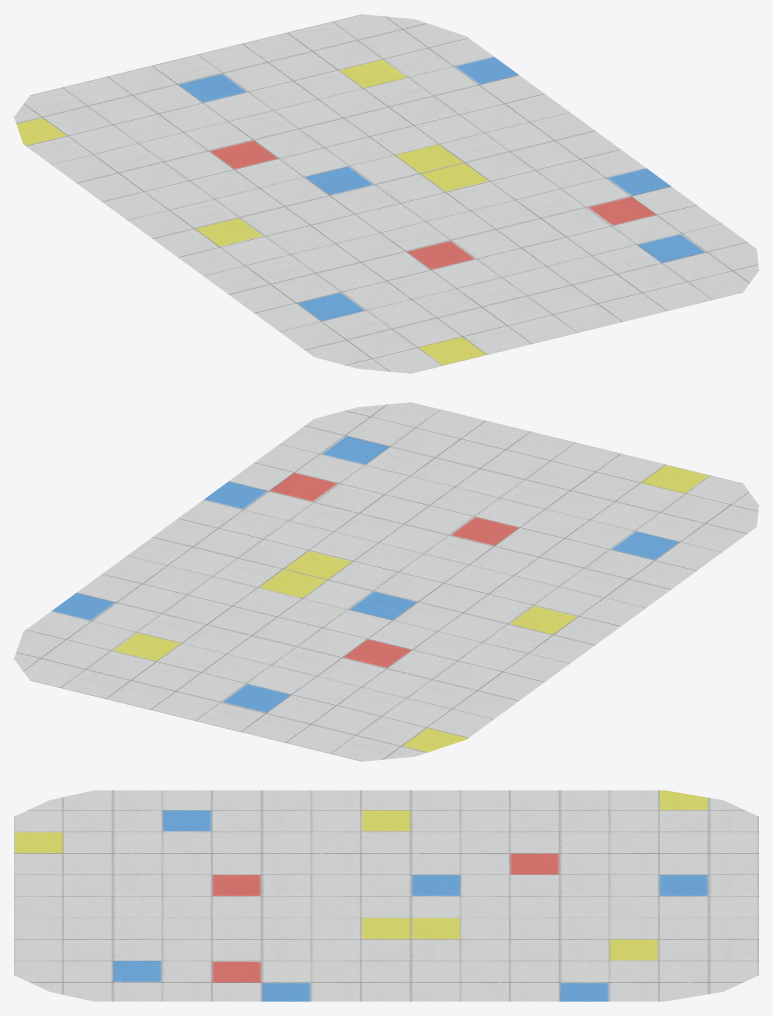
3 renders of one model, top to bottom at view 1: azimuth 30°, elevation 25°; view 2: azimuth 150°, elevation 25°; view 3: azimuth 270°, elevation 25°, orthographic. The views are drawn at different scales.
Parts seen in each view (by area): view 1: Combined Mesh (root_ scene) 2.209; view 2: Combined Mesh (root_ scene) 2.209; view 3: Combined Mesh (root_ scene) 2.209.
Part boxes in pixels (x1,y1,x2,y2): Combined Mesh (root_ scene) 2.209: (14,14,758,373); Combined Mesh (root_ scene) 2.209: (14,402,758,761); Combined Mesh (root_ scene) 2.209: (14,790,758,1001).
Size of the model in its own units: 294 by 3.75e-12 by 438.
Materials: 1 (1 with a texture image).
